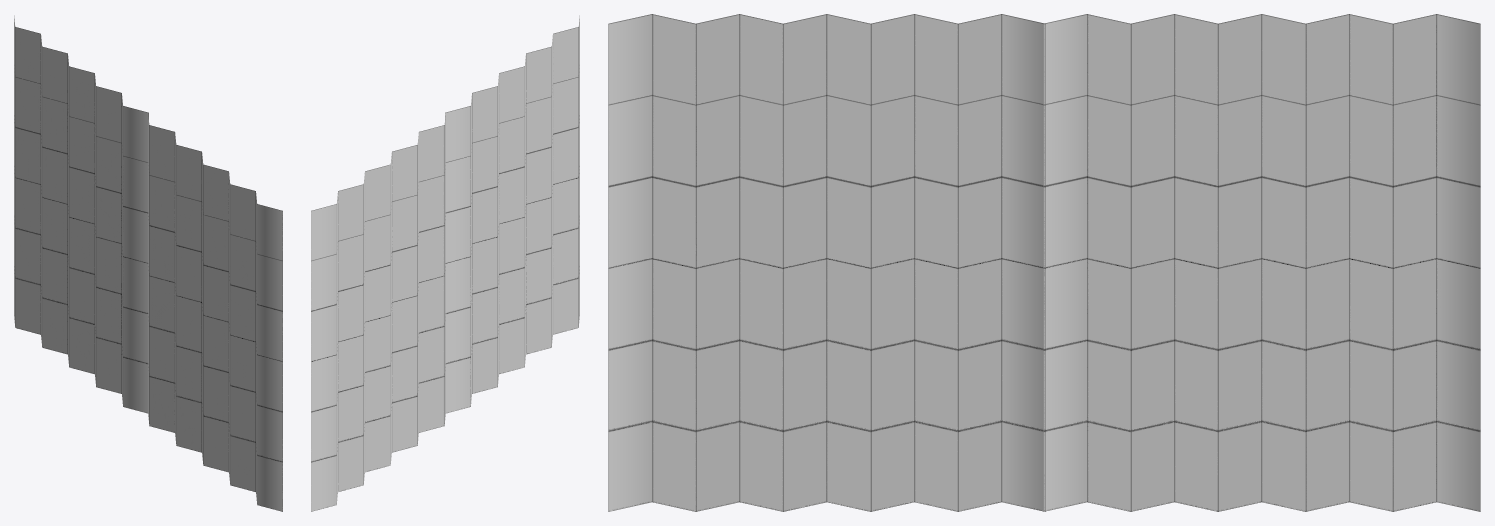
3 views of the same model, side by side, from view 1: azimuth 30°, elevation 25°; view 2: azimuth 150°, elevation 25°; view 3: azimuth 270°, elevation 25° (orthographic). The views are drawn at different scales.
Visible parts, largest first — view 1: 窗帘2, 窗帘; view 2: 窗帘, 窗帘2; view 3: 窗帘, 窗帘2.
Part boxes in pixels (x1,y1,x2,y2): 窗帘2: (148,116,282,511); 窗帘: (14,15,148,413); 窗帘: (311,116,445,511); 窗帘2: (445,15,579,413); 窗帘: (1043,14,1480,511); 窗帘2: (608,14,1045,511).
Size of the model in its own units: 1.57 by 36.81 by 59.58.
